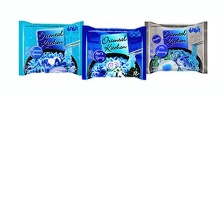snack: (14, 15, 86, 79), (77, 21, 150, 83), (139, 16, 211, 78)
